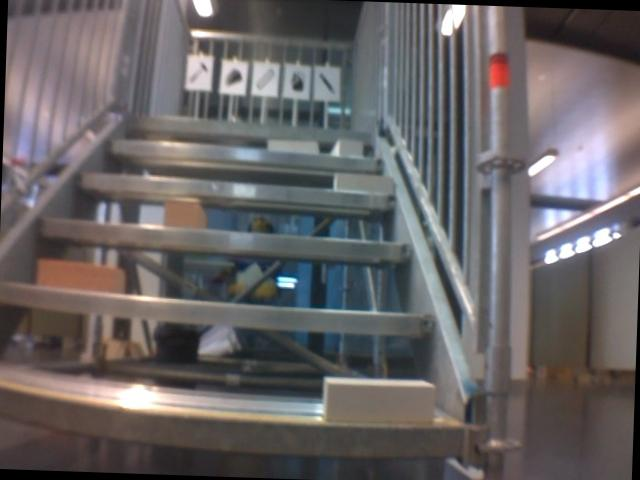brick: (322, 376, 434, 425), (38, 259, 125, 292), (333, 173, 393, 193), (163, 201, 206, 227), (267, 139, 318, 152), (330, 139, 362, 155)
bucket: (288, 69, 306, 94)
edge: (35, 217, 414, 262), (78, 172, 398, 208), (107, 139, 381, 171), (129, 116, 373, 141)
hammer: (187, 59, 210, 87)
pencil: (317, 70, 340, 96)
ruler: (253, 63, 276, 92)
taco: (223, 65, 244, 89)
